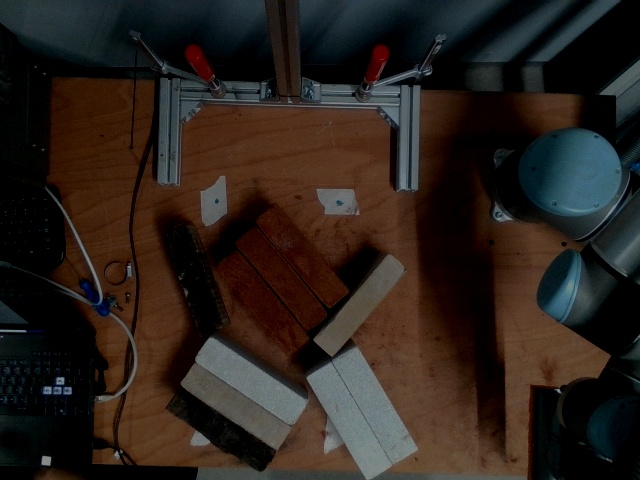brick-side: (194, 338, 304, 424), (180, 365, 290, 450), (308, 365, 390, 478), (166, 389, 275, 473), (334, 350, 415, 463), (218, 248, 307, 348), (258, 207, 346, 307), (238, 229, 326, 329), (316, 257, 403, 354), (163, 225, 219, 336)
